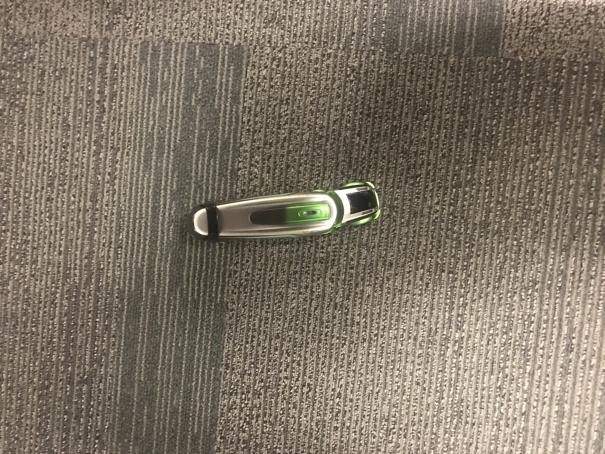Freewheel: (191, 180, 382, 240)
